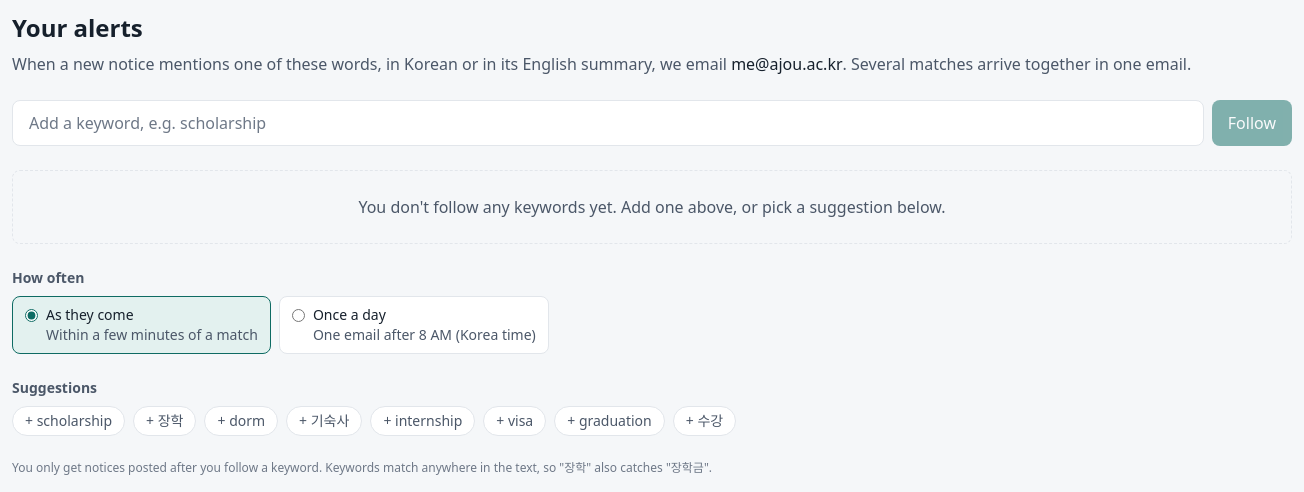
it: AlertsPage › switches to one daily email
Expected: the radio button labelled "As they come Within a few minutes of a match" is checked, [25,309,38,322]
Click the radio button labelled "Once a day One email after 8 AM (Korea time)".
click(298, 316)  # box [292,309,305,322]
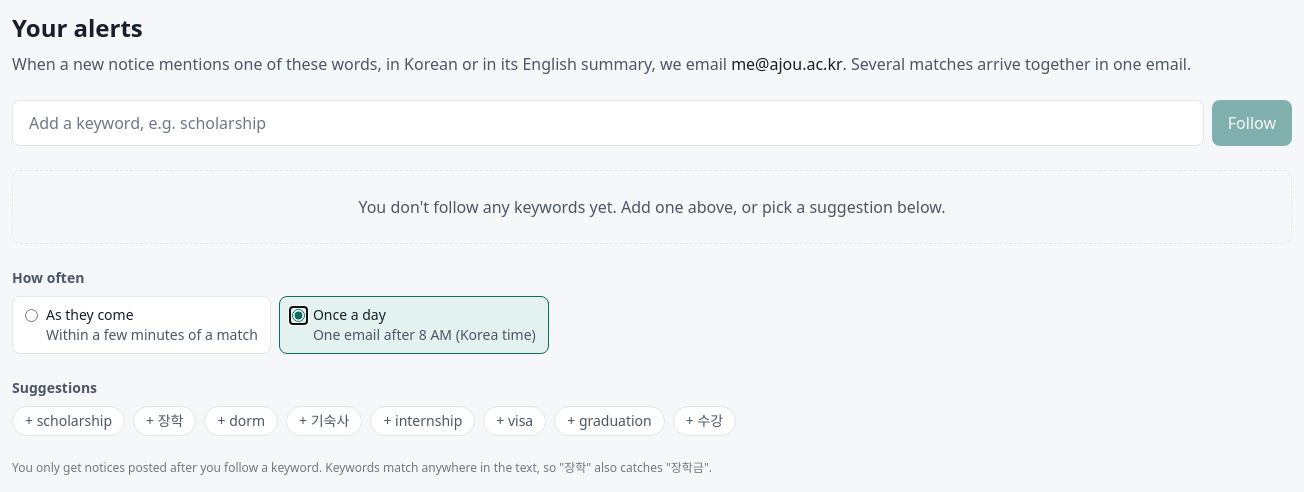
Result: the radio button labelled "Once a day One email after 8 AM (Korea time)" is checked at [292,309,305,322]
